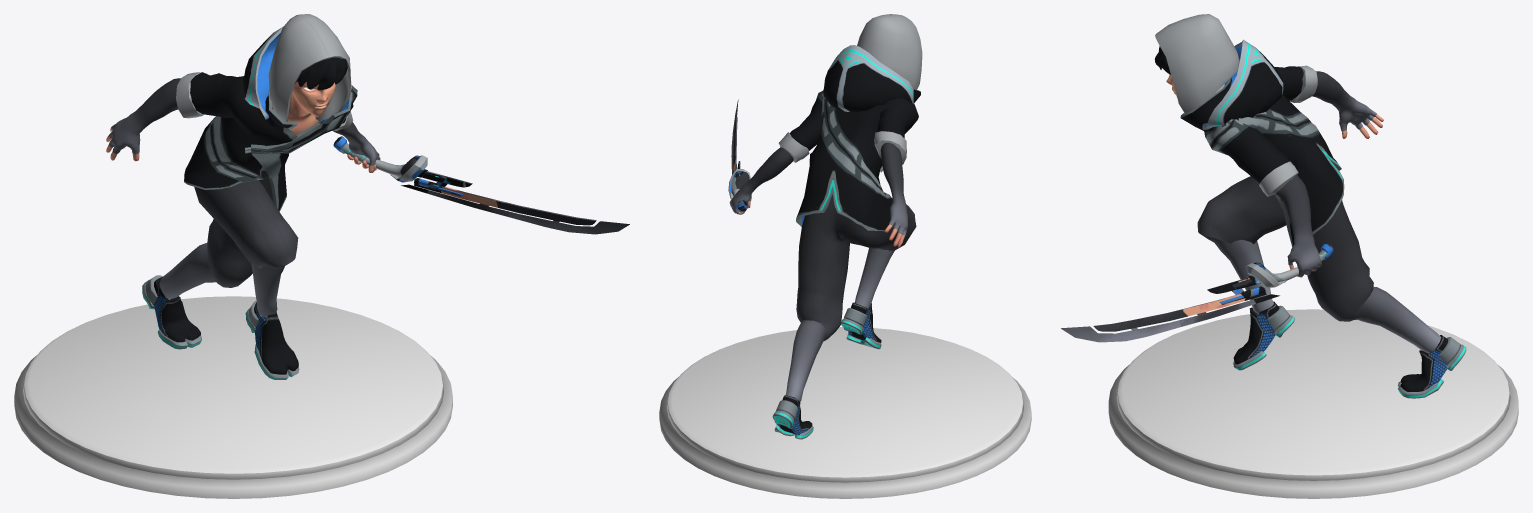
Rendered from SmouraiSF.fbx.
The picture shows the model from 3 angles, left to right: view 1: azimuth 30°, elevation 25°; view 2: azimuth 150°, elevation 25°; view 3: azimuth 270°, elevation 25°; orthographic projection. The views are drawn at different scales.
Parts seen in each view (by area): view 1: Socle, Bonhomme003, Object002; view 2: Socle, Bonhomme003, Object002; view 3: Socle, Bonhomme003, Object002.
Boxes of the visible parts, x1,y1,x2,y2 form: Socle: [14, 296, 452, 498]; Bonhomme003: [106, 14, 441, 379]; Object002: [333, 136, 629, 234]; Socle: [659, 327, 1031, 498]; Bonhomme003: [729, 14, 922, 439]; Object002: [728, 99, 750, 212]; Socle: [1108, 309, 1518, 498]; Bonhomme003: [1154, 14, 1466, 398]; Object002: [1061, 243, 1333, 342].
Bounding box in the file's own units: 75.95 × 69.1 × 71.42.
